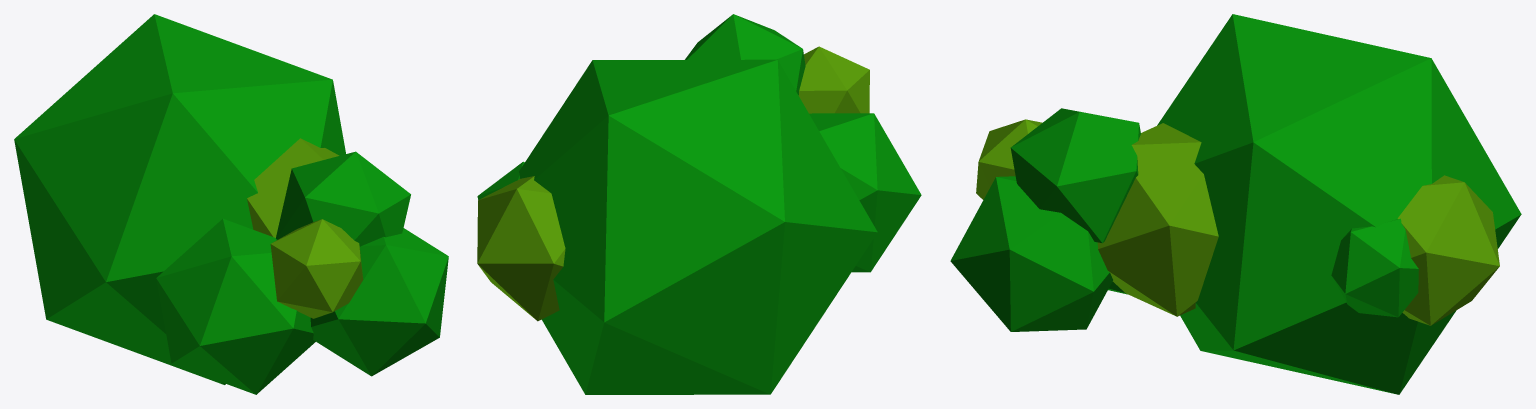
3 views of the same model, side by side, from view 1: azimuth 30°, elevation 25°; view 2: azimuth 150°, elevation 25°; view 3: azimuth 270°, elevation 25° (orthographic). The views are drawn at different scales.
Visible parts, largest first — view 1: Icosphere, Icosphere.004, Icosphere.007, Icosphere.005, Icosphere.006, Icosphere.003; view 2: Icosphere, Icosphere.001, Icosphere.004, Icosphere.005, Icosphere.006, Icosphere.002; view 3: Icosphere, Icosphere.007, Icosphere.003, Icosphere.005, Icosphere.001, Icosphere.002, Icosphere.006.
Boxes of the visible parts, left/top/right/bottom form: Icosphere: left=14, top=14, right=345, bottom=384; Icosphere.004: left=156, top=219, right=315, bottom=394; Icosphere.007: left=310, top=228, right=448, bottom=376; Icosphere.005: left=276, top=151, right=410, bottom=246; Icosphere.006: left=270, top=219, right=363, bottom=318; Icosphere.003: left=247, top=138, right=339, bottom=237; Icosphere: left=519, top=59, right=877, bottom=394; Icosphere.001: left=477, top=176, right=565, bottom=321; Icosphere.004: left=809, top=113, right=921, bottom=272; Icosphere.005: left=685, top=14, right=805, bottom=95; Icosphere.006: left=798, top=46, right=869, bottom=113; Icosphere.002: left=477, top=161, right=524, bottom=199; Icosphere: left=1157, top=14, right=1521, bottom=394; Icosphere.007: left=950, top=176, right=1112, bottom=331; Icosphere.003: left=1097, top=123, right=1218, bottom=316; Icosphere.005: left=1010, top=108, right=1140, bottom=243; Icosphere.001: left=1397, top=175, right=1499, bottom=325; Icosphere.002: left=1331, top=218, right=1418, bottom=317; Icosphere.006: left=976, top=119, right=1042, bottom=199.
Size of the model in its own units: 411 by 390 by 627.
